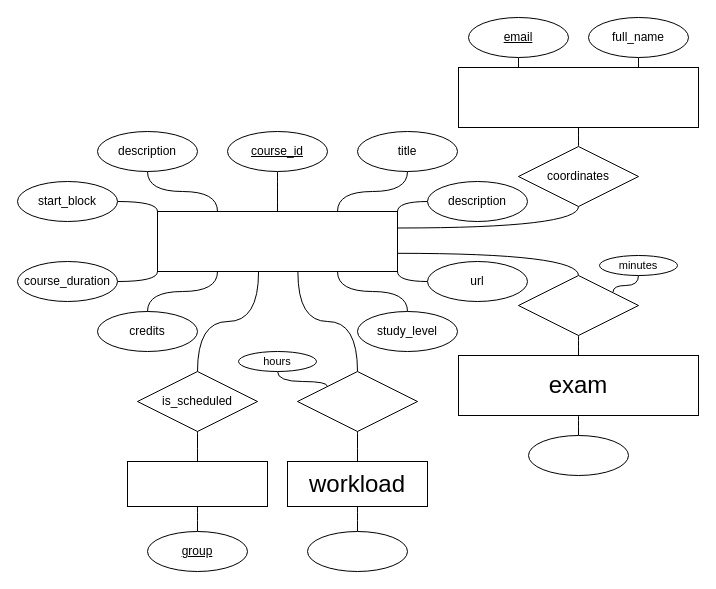
Some shapes in this 716 by 589 pixel diagram are drawn without their labels. Here are the shapes that lost their labels. From the top down, the centre of each, then its label:
At pixel 578 97: "employee".
At pixel 277 241: "course".
At pixel 578 305: "has_exam".
At pixel 357 401: "has_workload".
At pixel 578 455: "exam_type".
At pixel 197 483: "schedule".
At pixel 357 551: "label".
